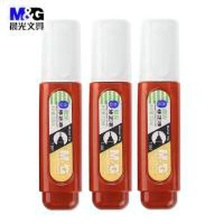correction_fluid: (135, 14, 183, 212), (86, 15, 133, 212), (36, 17, 83, 210)
